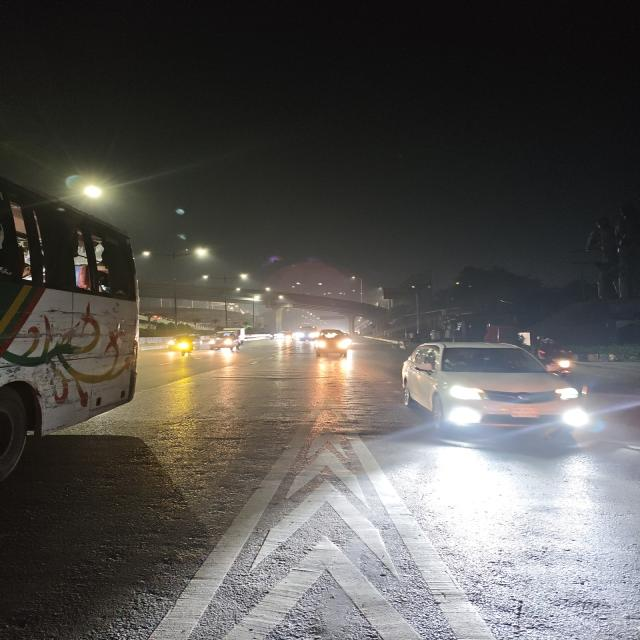bus: (0, 194, 145, 462), (296, 325, 318, 343)
car: (393, 335, 590, 451), (311, 328, 357, 360), (208, 330, 243, 351)
motorcycle: (548, 348, 583, 376), (176, 330, 194, 358)
